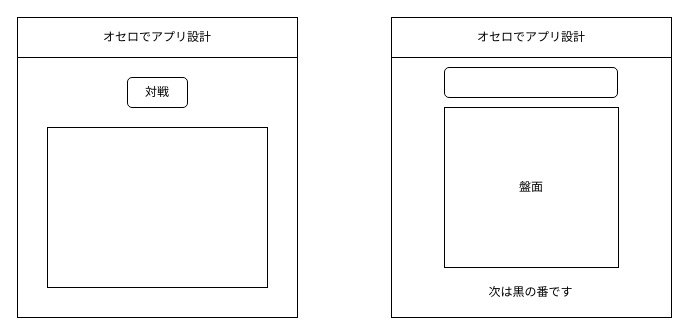
Image size: 689x335. Some labels were removed from this diagram. The box of each missing label's shape, as (x1, y1, x2, y2) in pixels:
メッセージ: (444, 66, 618, 98)
過去の対戦結果: (46, 126, 268, 288)
